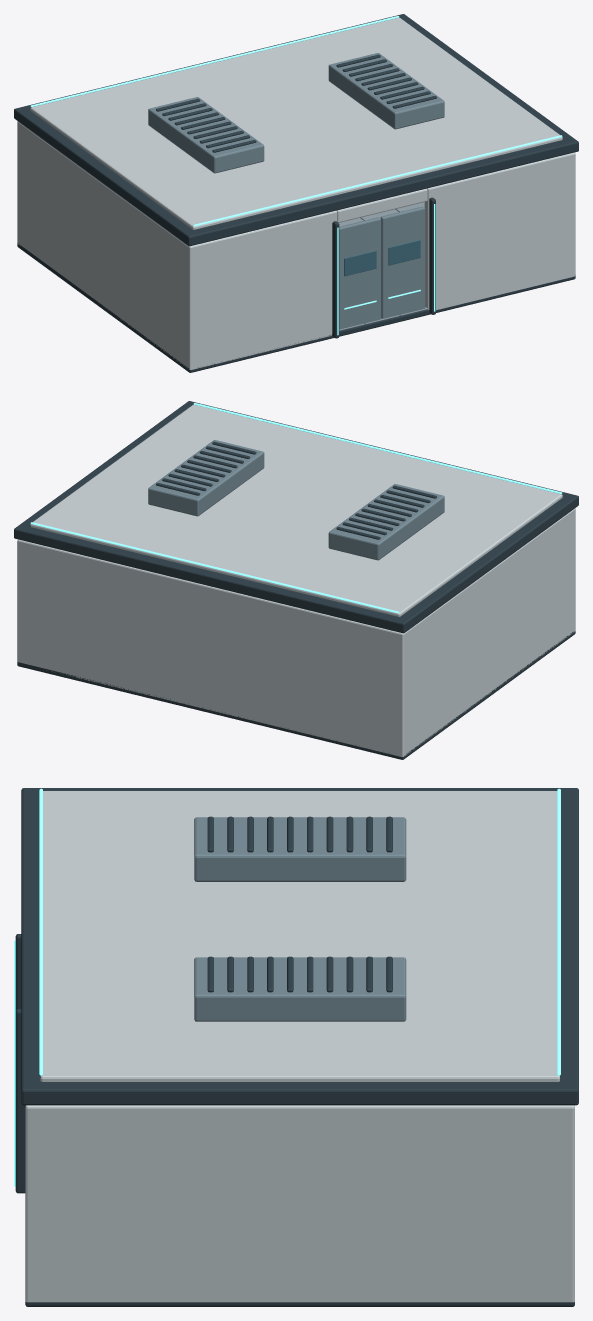
File: repair-shell.glb
The picture shows the model from 3 angles, top to bottom: view 1: azimuth 30°, elevation 25°; view 2: azimuth 150°, elevation 25°; view 3: azimuth 270°, elevation 25°; orthographic projection. The views are drawn at different scales.
Visible parts, largest first — view 1: Cutaway_Ivory, Roof_Ivory, Roof_Dark, Roof_Steel, DoorRight_Steel, DoorLeft_Steel, Floor_Dark, Roof_Accent, Cutaway_Dark, DoorLeft_Glass, DoorRight_Glass, Floor_Floor (+1 smaller); view 2: Roof_Ivory, Back_Ivory, Cutaway_Ivory, Roof_Dark, Roof_Steel, Floor_Dark, Roof_Accent; view 3: Roof_Ivory, Cutaway_Ivory, Roof_Dark, Roof_Steel, Floor_Dark, Roof_Accent, Cutaway_Dark.
Part boxes in pixels (x1,y1,x2,y2): Cutaway_Ivory: (17,121,575,369); Roof_Ivory: (30,17,562,229); Roof_Dark: (14,14,578,246); Roof_Steel: (148,53,444,173); DoorRight_Steel: (380,206,425,318); DoorLeft_Steel: (339,217,381,329); Floor_Dark: (17,209,575,372); Roof_Accent: (30,16,562,226); Cutaway_Dark: (332,197,435,338); DoorLeft_Glass: (344,250,376,276); DoorRight_Glass: (388,240,420,265); Floor_Floor: (339,202,427,330); Roof_Ivory: (30,404,562,616); Back_Ivory: (18,539,406,756); Cutaway_Ivory: (17,508,575,756); Roof_Dark: (14,401,578,633); Roof_Steel: (148,440,444,560); Floor_Dark: (17,631,575,759); Roof_Accent: (30,403,562,613); Roof_Ivory: (40,791,559,1081); Cutaway_Ivory: (25,1105,574,1302); Roof_Dark: (21,788,578,1105); Roof_Steel: (194,817,406,1021); Floor_Dark: (25,1302,574,1306); Roof_Accent: (39,788,560,1075); Cutaway_Dark: (15,934,25,1193).
Bounding box in the file's own units: 10.82 × 4.26 × 8.53.
